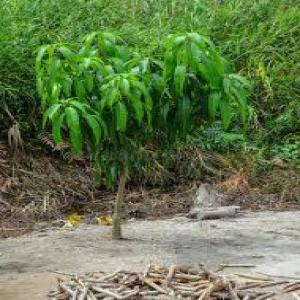Tree: (30, 27, 253, 237)
